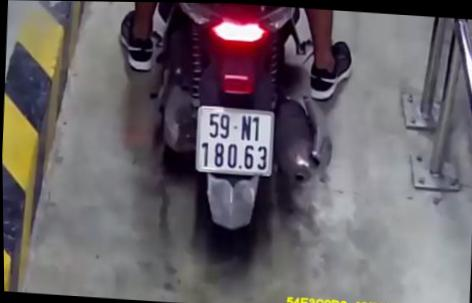LP: (193, 105, 273, 177)
